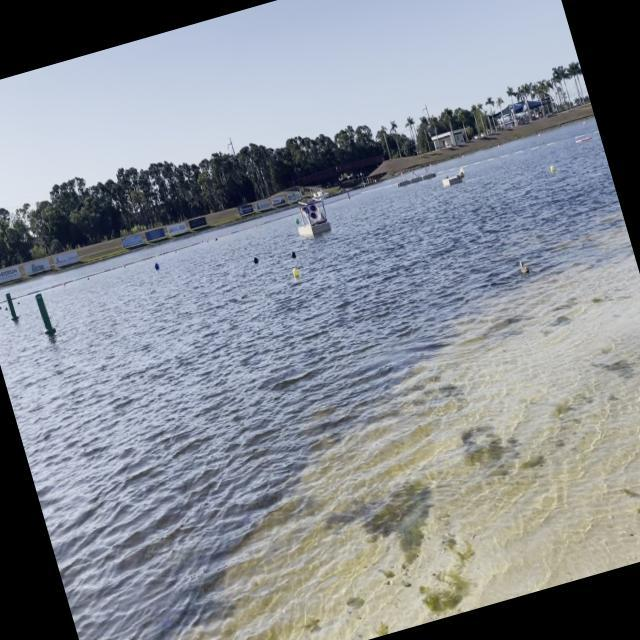buoy: (290, 264, 300, 280), (288, 246, 298, 261), (152, 258, 160, 272), (250, 251, 258, 265), (548, 163, 554, 173), (294, 214, 300, 224)
